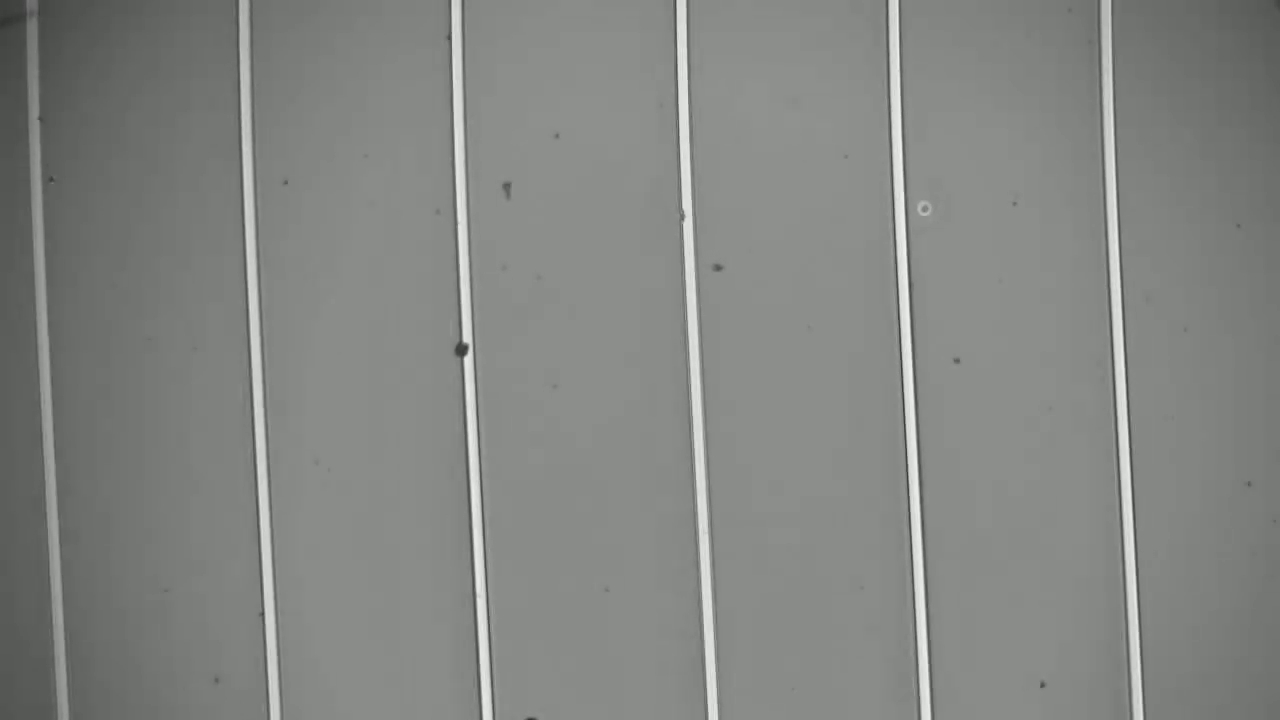stains_enbedded: (449, 332, 488, 364)
